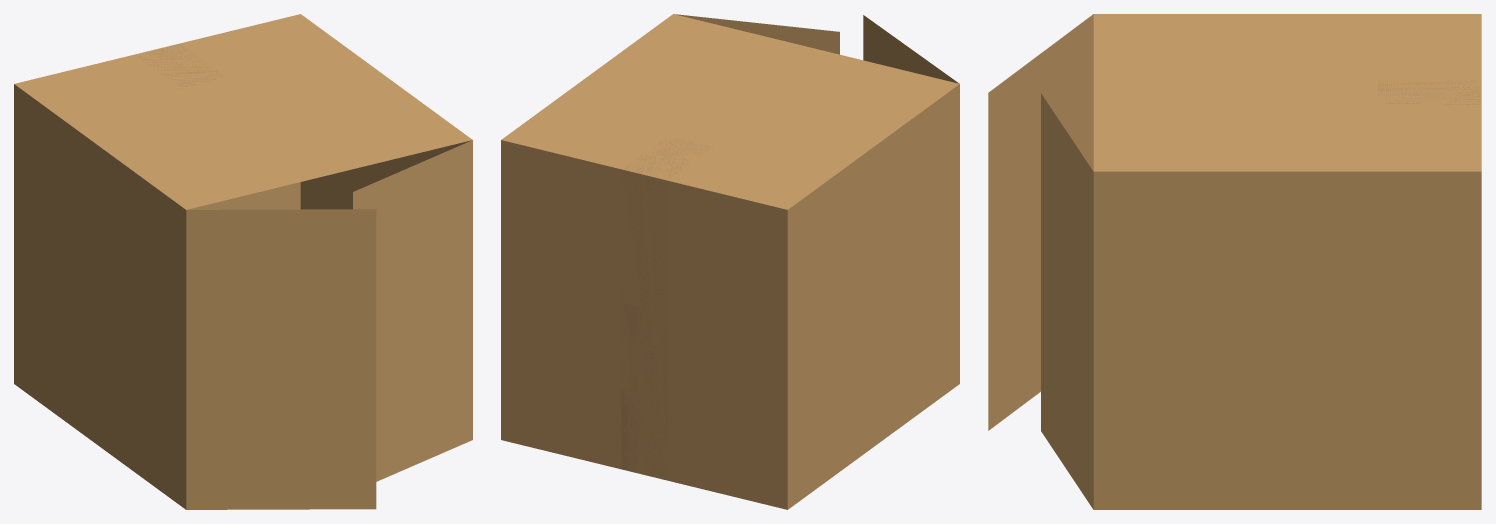
Rendered from cardboard-box.obj.
3 views of the same model, side by side, from view 1: azimuth 30°, elevation 25°; view 2: azimuth 150°, elevation 25°; view 3: azimuth 270°, elevation 25° (orthographic). The views are drawn at different scales.
Parts seen in each view (by area): view 1: cardboard-box; view 2: cardboard-box; view 3: cardboard-box.
Part boxes in pixels (box(x1,y1,x2,y2)): cardboard-box: box(14, 14, 472, 509); cardboard-box: box(501, 14, 959, 509); cardboard-box: box(988, 14, 1481, 509).
Bounding box in the file's own units: 13.61 × 13.61 × 18.
